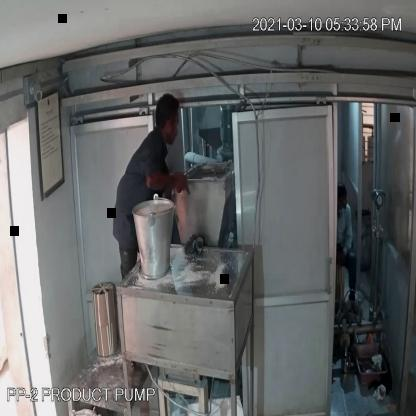no_glove: (142, 160, 195, 210)
